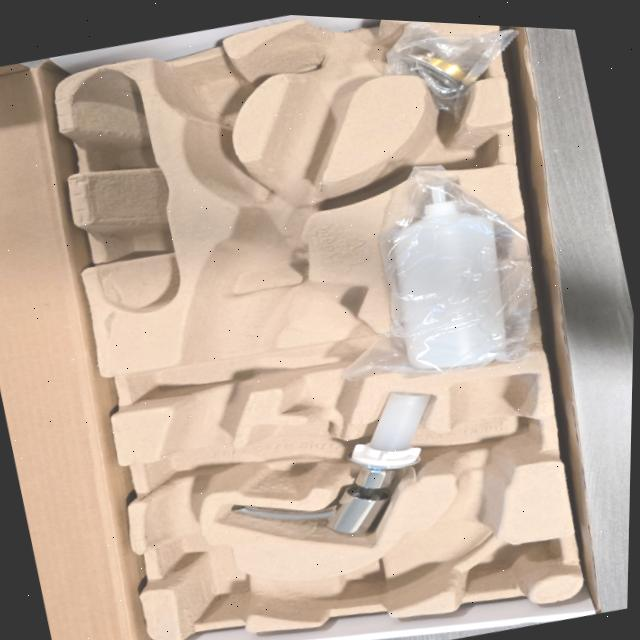1m: (145, 17, 534, 609)
2: (231, 389, 433, 537)
3: (389, 179, 506, 370)
4m: (65, 70, 180, 311)
5m: (168, 61, 246, 118)
6: (380, 21, 516, 117)
7m: (363, 121, 501, 191)
